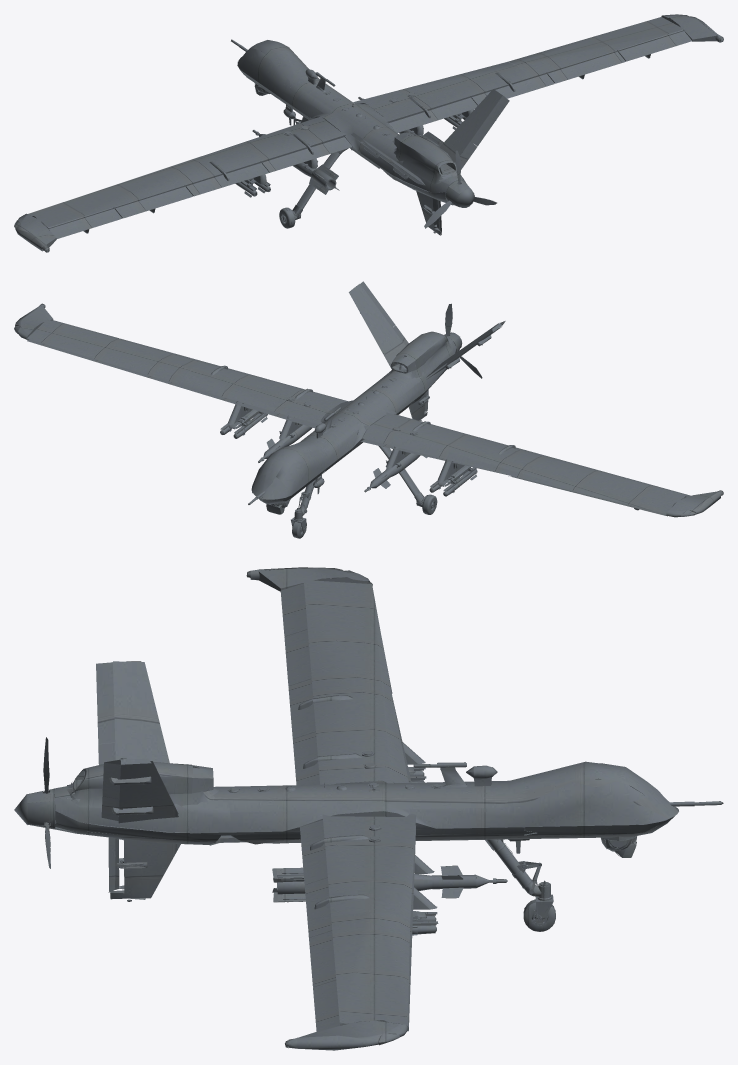
File: type_mq9.glb
3 views of the same model, one above another, from view 1: azimuth 30°, elevation 25°; view 2: azimuth 150°, elevation 25°; view 3: azimuth 270°, elevation 25° (orthographic). The views are drawn at different scales.
Parts seen in each view (by area): view 1: Object_10; view 2: Object_10; view 3: Object_10.
Part boxes in pixels (x1=…): Object_10: x1=14, y1=14, x2=723, y2=252; Object_10: x1=14, y1=281, x2=723, y2=538; Object_10: x1=14, y1=567, x2=723, y2=1050.
Size of the model in its own units: 19.38 by 3.99 by 11.
1 material, 1 textured.
